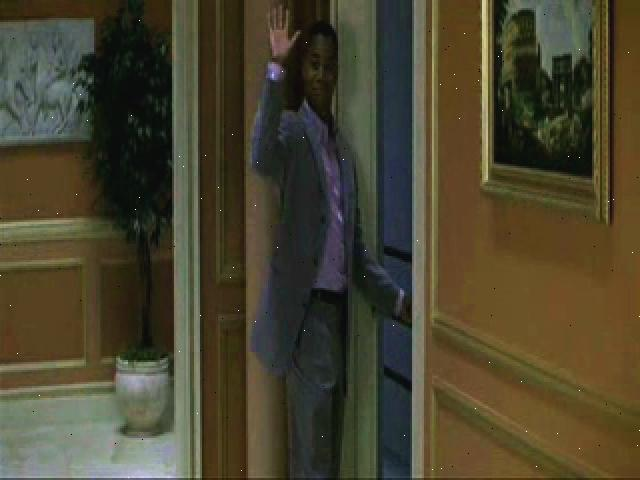T: (238, 1, 416, 474)
